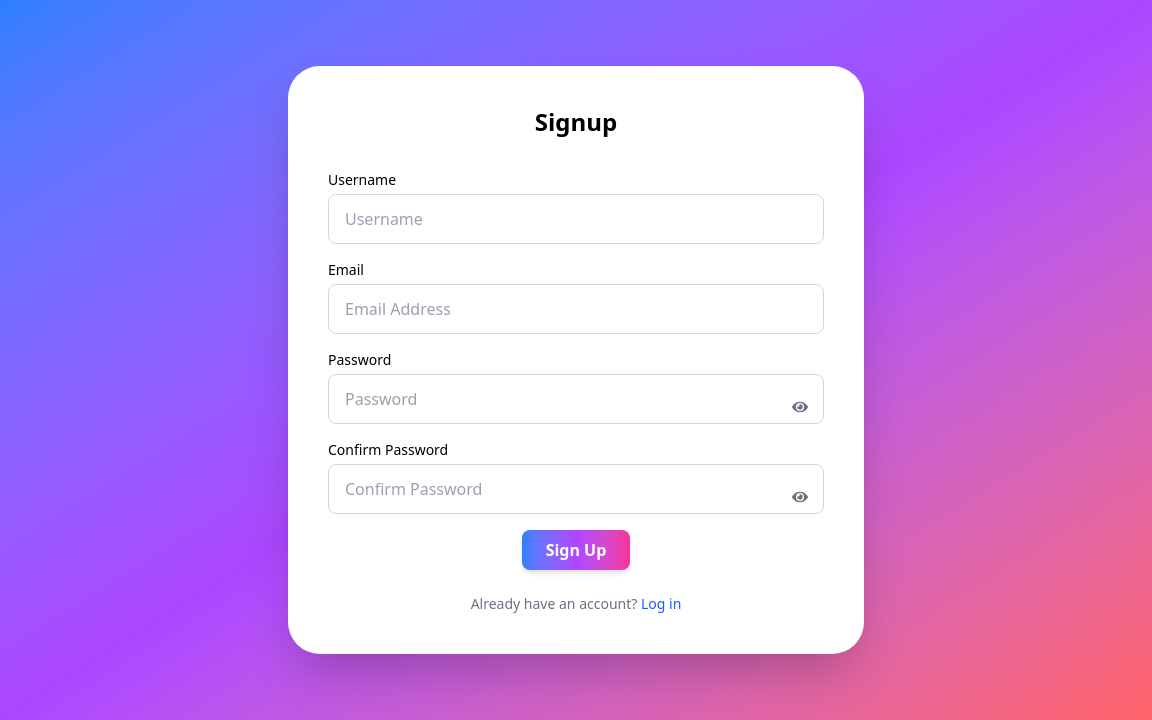
Signup Component › shows validation errors if required fields are missing
Click the button "Sign Up" at [576, 550], box [522, 530, 630, 570]
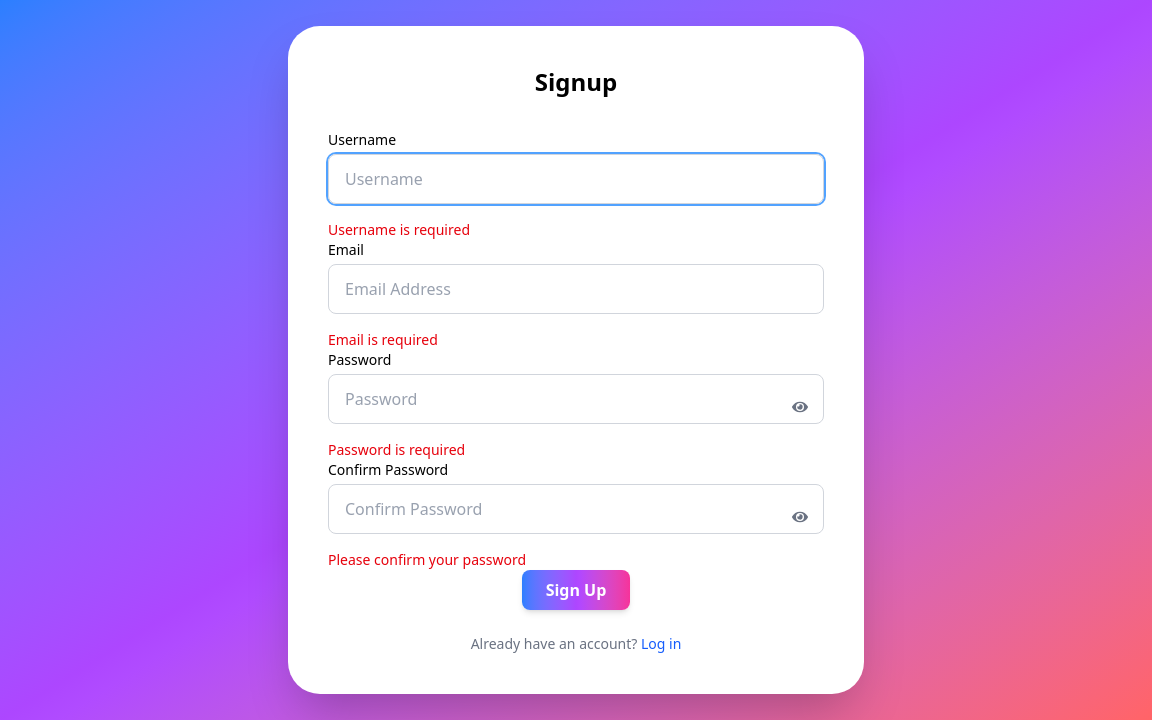
Expected: the text "Username is required" is shown, [328, 220, 470, 239]
Expected: the text "Email is required" is shown, [328, 330, 438, 349]
Expected: the text "Password is required" is shown, [328, 440, 465, 459]
